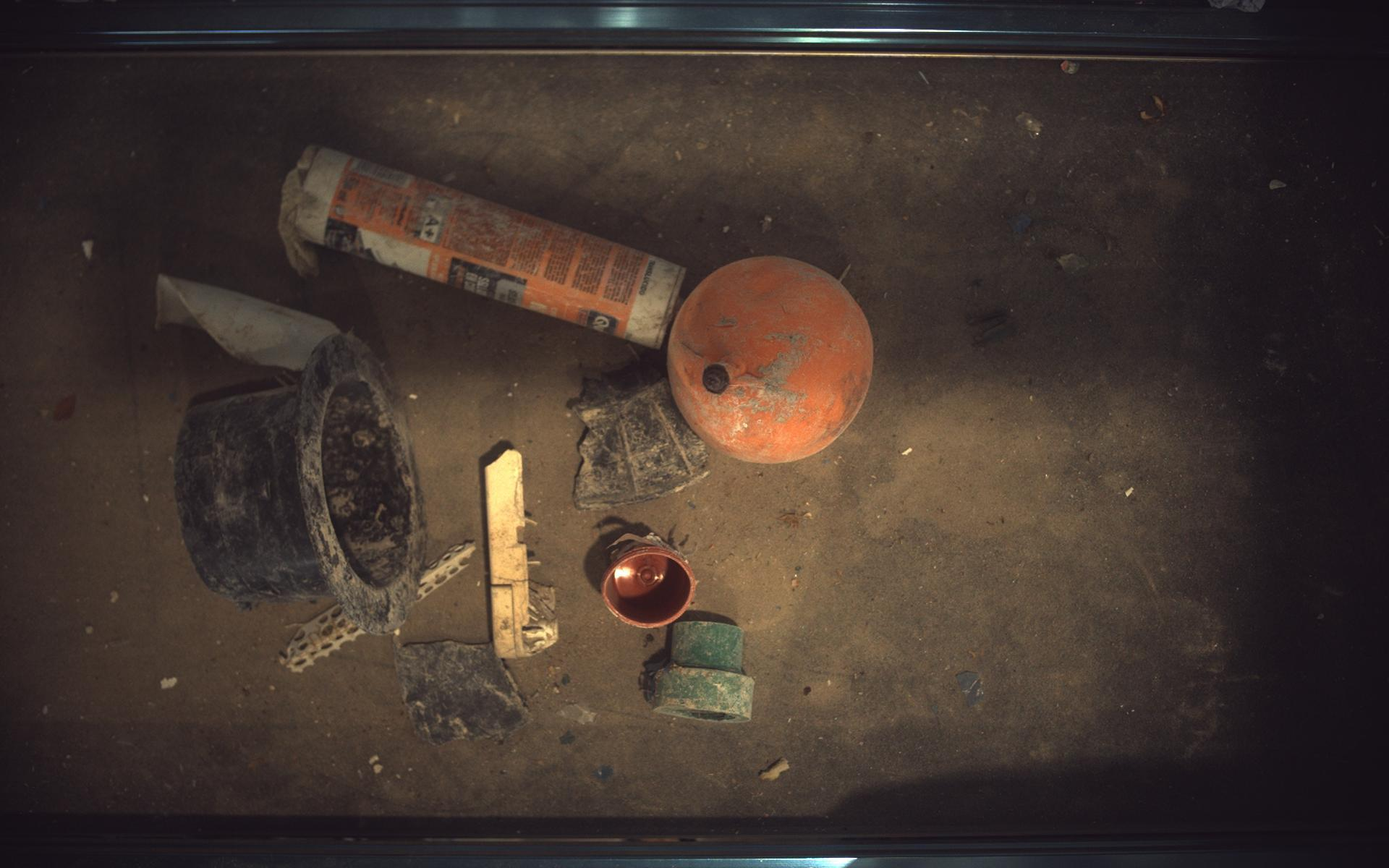plastic: (278, 144, 685, 347), (174, 333, 425, 635), (669, 256, 875, 464), (569, 360, 710, 509), (156, 274, 338, 370), (485, 450, 558, 659), (394, 642, 530, 746), (652, 623, 755, 723), (603, 534, 696, 629), (278, 605, 364, 673), (417, 540, 476, 601)
